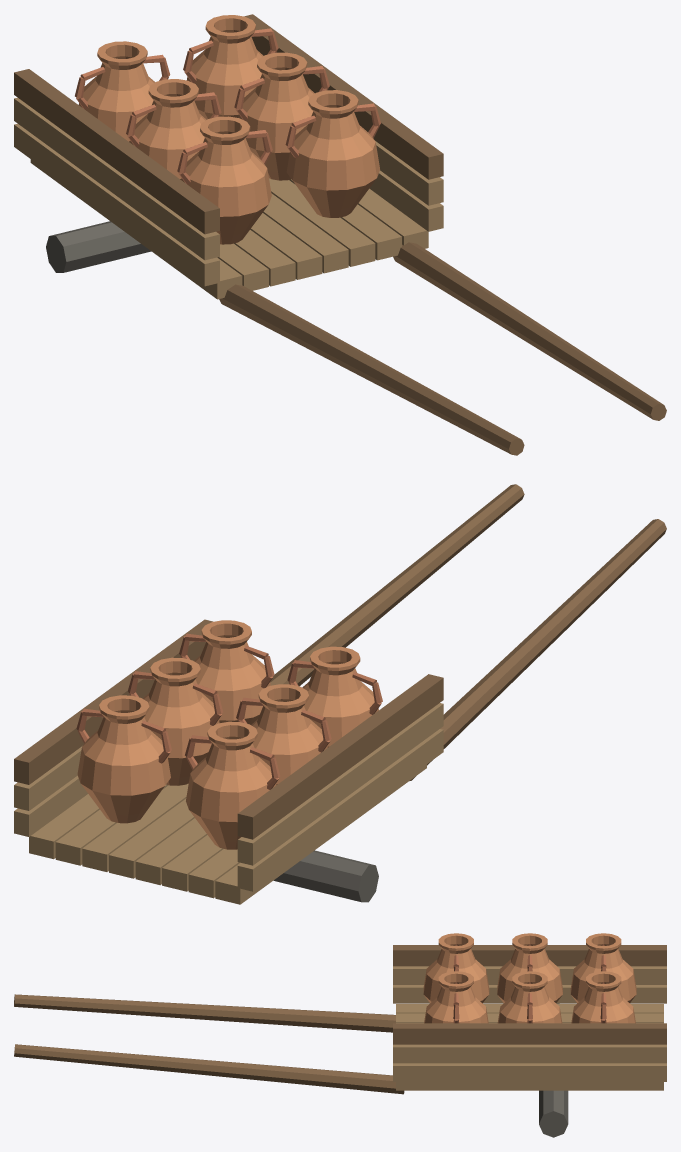
Rendered from cart.glb.
3 views of the same model, one above another, from view 1: azimuth 30°, elevation 25°; view 2: azimuth 150°, elevation 25°; view 3: azimuth 270°, elevation 25° (orthographic). The views are drawn at different scales.
Parts seen in each view (by area): view 1: AmphoraCart; view 2: AmphoraCart; view 3: AmphoraCart.
Boxes of the visible parts, box(x1,y1,x2,y2) form: AmphoraCart: box(14, 14, 666, 455); AmphoraCart: box(14, 484, 666, 904); AmphoraCart: box(14, 933, 666, 1137).
Bounding box in the file's own units: 1.76 × 0.9196 × 4.43.
